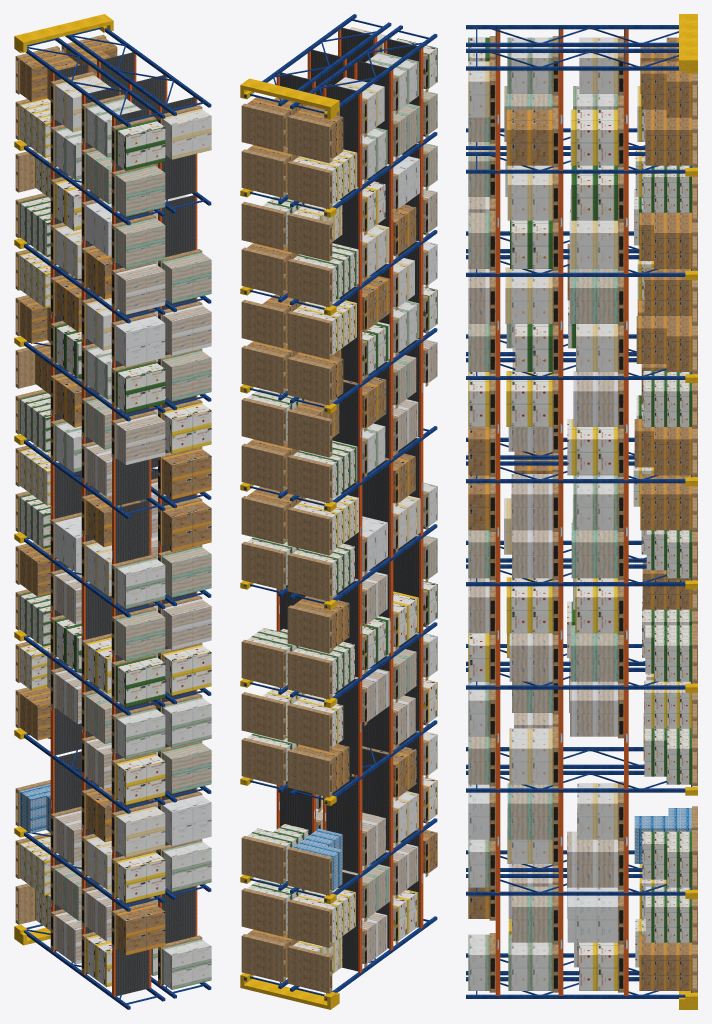
Rendered from racks_w1_n.gltf.
3 renders of one model, left to right at view 1: azimuth 30°, elevation 25°; view 2: azimuth 150°, elevation 25°; view 3: azimuth 270°, elevation 25°, orthographic. The views are drawn at different scales.
Parts seen in each view (by area): view 1: racks_w1_n; view 2: racks_w1_n; view 3: racks_w1_n.
Boxes of the visible parts, box(x1,y1,x2,y2) form: racks_w1_n: box(14, 14, 211, 1009); racks_w1_n: box(240, 14, 437, 1009); racks_w1_n: box(466, 14, 697, 1009).
Size of the model in its own units: 2.6 by 24.86 by 5.5.
Materials: 18 (18 with a texture image).
